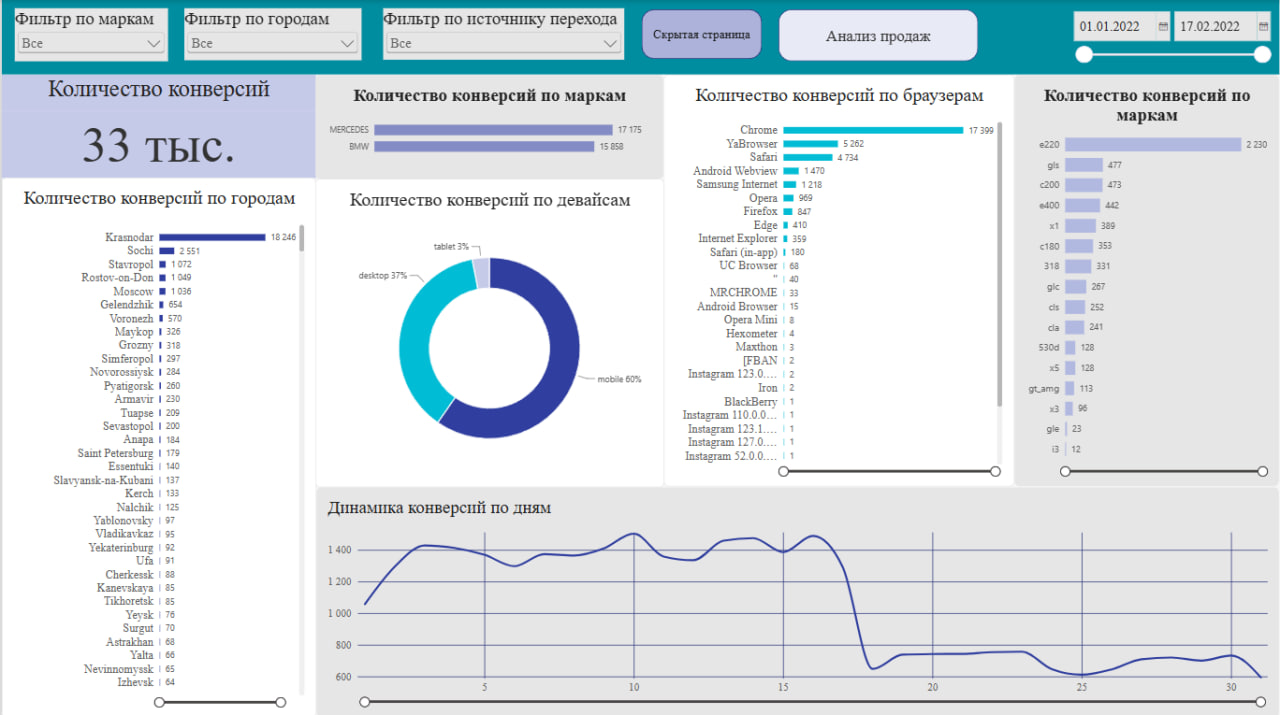

This screenshot's page, from the dashboard's own definition file:
{"tool":"powerbi","page":{"name":"Анализ конверсий","canvas":[1920,1080],"ordinal":0},"visuals":[{"type":"textbox","box":[0,0,1920,112],"z":0},{"type":"cardVisual","title":"Количество конверсий","fields":{"Data":["Sum(Маркетинговые данные.Конверсия)"]},"box":[0,112,472,156],"z":1000},{"type":"clusteredBarChart","title":"Количество конверсий по городам","fields":{"Category":["Маркетинговые данные.Город"],"Y":["Sum(Маркетинговые данные.Конверсия)"]},"box":[0,268,472,812],"z":2000},{"type":"donutChart","title":"Количество конверсий по девайсам","fields":{"Category":["Маркетинговые данные.Девайс"],"Y":["Sum(Маркетинговые данные.Конверсия)"]},"box":[471.1,268.9,523.8,464.1],"z":3000},{"type":"lineChart","title":"Динамика конверсий по дням","fields":{"Category":["Маркетинговые данные.Дата.Изменение.Иерархия дат.День"],"Y":["Sum(Маркетинговые данные.Конверсия)"]},"box":[472.9,733,1446.7,346.3],"z":4000},{"type":"clusteredBarChart","title":"Количество конверсий по браузерам","fields":{"Category":["Маркетинговые данные.Браузер"],"Y":["Sum(Маркетинговые данные.Конверсия)"]},"box":[995.6,113.3,526.1,619.2],"z":5000},{"type":"clusteredBarChart","title":"Количество конверсий по маркам","fields":{"Category":["Маркетинговые данные.Марка из домена"],"Y":["Sum(Маркетинговые данные.Конверсия)"]},"box":[471.4,113.2,522.8,156.4],"z":6000},{"type":"clusteredBarChart","title":"Количество конверсий по маркам","fields":{"Category":["Маркетинговые данные.Модель_2"],"Y":["Sum(Маркетинговые данные.Конверсия)"]},"box":[1521.8,113.3,396.6,619.2],"z":7000},{"type":"slicer","title":"Фильтр по источнику перехода","fields":{"Values":["Маркетинговые данные.Источник перехода"]},"box":[572.5,12.5,362.5,77.5],"z":8000},{"type":"slicer","title":"Фильтр по маркам","fields":{"Values":["Справочник.Марка","Справочник.Модель"]},"box":[20,12,230,80],"z":9000},{"type":"slicer","title":"Фильтр по городам","fields":{"Values":["Маркетинговые данные.Регион","Маркетинговые данные.Город"]},"box":[274,12,266,78],"z":10000},{"type":"slicer","fields":{"Values":["Маркетинговые данные.Дата"]},"box":[1602.5,12.5,307.5,90],"z":11000},{"type":"shape","box":[960.8,14.9,180.6,74.5],"z":12000},{"type":"shape","title":"Анализ продаж","box":[1168,14,300,78],"z":12001}]}

Visuals, with their boxes in screenshot pixels (x1, y1, x2, y2), scaled from the page's 1920x1080 canvas onto the 1280x715 screenshot:
textbox: 0/0/1279/74
"Количество конверсий" cardVisual: 0/74/315/177
"Количество конверсий по городам" clusteredBarChart: 0/177/315/714
"Количество конверсий по девайсам" donutChart: 314/178/663/485
"Динамика конверсий по дням" lineChart: 315/485/1279/714
"Количество конверсий по браузерам" clusteredBarChart: 664/75/1014/485
"Количество конверсий по маркам" clusteredBarChart: 314/75/663/178
"Количество конверсий по маркам" clusteredBarChart: 1015/75/1279/485
"Фильтр по источнику перехода" slicer: 382/8/623/60
"Фильтр по маркам" slicer: 13/8/167/61
"Фильтр по городам" slicer: 183/8/360/60
slicer - Маркетинговые данные.Дата: 1068/8/1273/68
shape: 641/10/761/59
"Анализ продаж" shape: 779/9/979/61
